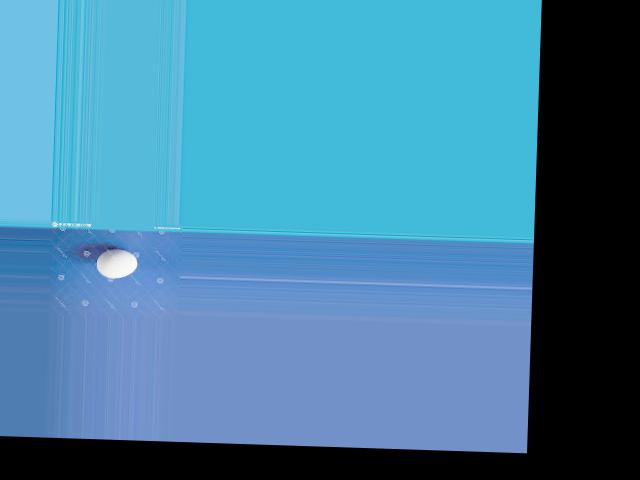egg: (96, 248, 138, 278)
